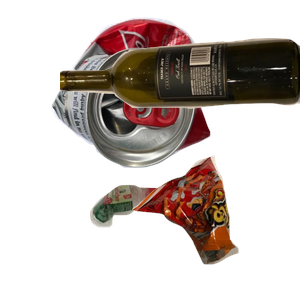glass: (60, 36, 300, 147)
metal: (48, 15, 251, 175)
plastic: (88, 182, 242, 300)
trash: (130, 153, 300, 300)
